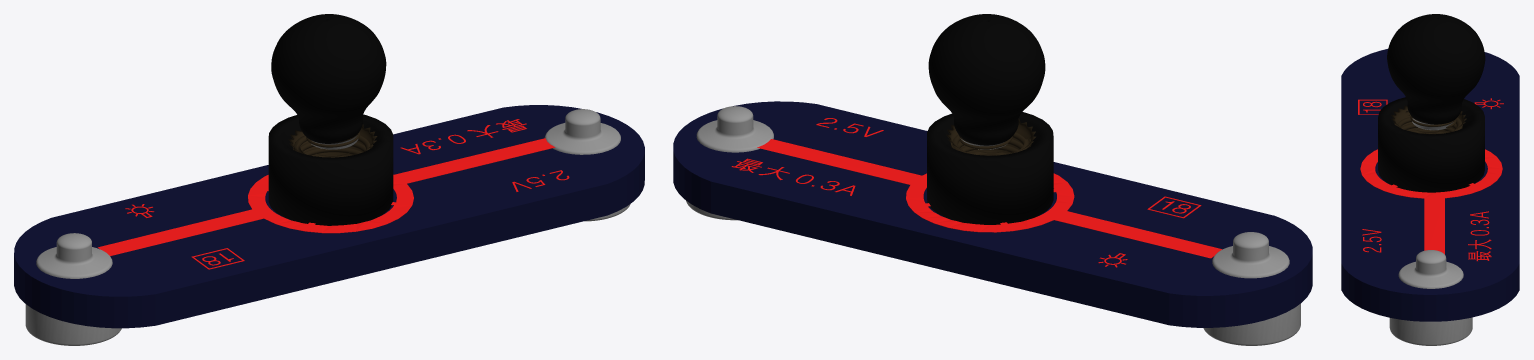
The model's file is Bulb.FBX.
3 views of the same model, side by side, from view 1: azimuth 30°, elevation 25°; view 2: azimuth 150°, elevation 25°; view 3: azimuth 270°, elevation 25° (orthographic). The views are drawn at different scales.
Visible parts, largest first — view 1: Base, Lamp unit (×4), Text, ButtonUp (×2), ButtonDown; view 2: Base, Lamp unit (×4), Text, ButtonUp (×2), ButtonDown; view 3: Base, Lamp unit (×6), Text (×4), ButtonDown, ButtonUp.
Part boxes in pixels (box(x1,y1,x2,y2)): Base: box(14, 105, 644, 328); Lamp unit (×4): box(268, 14, 393, 225); Text: box(98, 138, 555, 255); ButtonUp (×2): box(36, 109, 620, 278); ButtonDown: box(25, 304, 121, 345); Base: box(673, 101, 1312, 327); Lamp unit (×4): box(927, 14, 1053, 224); Text: box(757, 139, 1221, 258); ButtonUp (×2): box(696, 106, 1289, 278); ButtonDown: box(1203, 303, 1300, 345); Base: box(1341, 49, 1519, 321); Lamp unit (×6): box(1378, 14, 1485, 192); Text (×4): box(1360, 149, 1502, 261); ButtonDown: box(1389, 317, 1472, 345); ButtonUp: box(1398, 250, 1463, 288).
Size of the model in its own units: 94.38 by 36.17 by 28.33.
